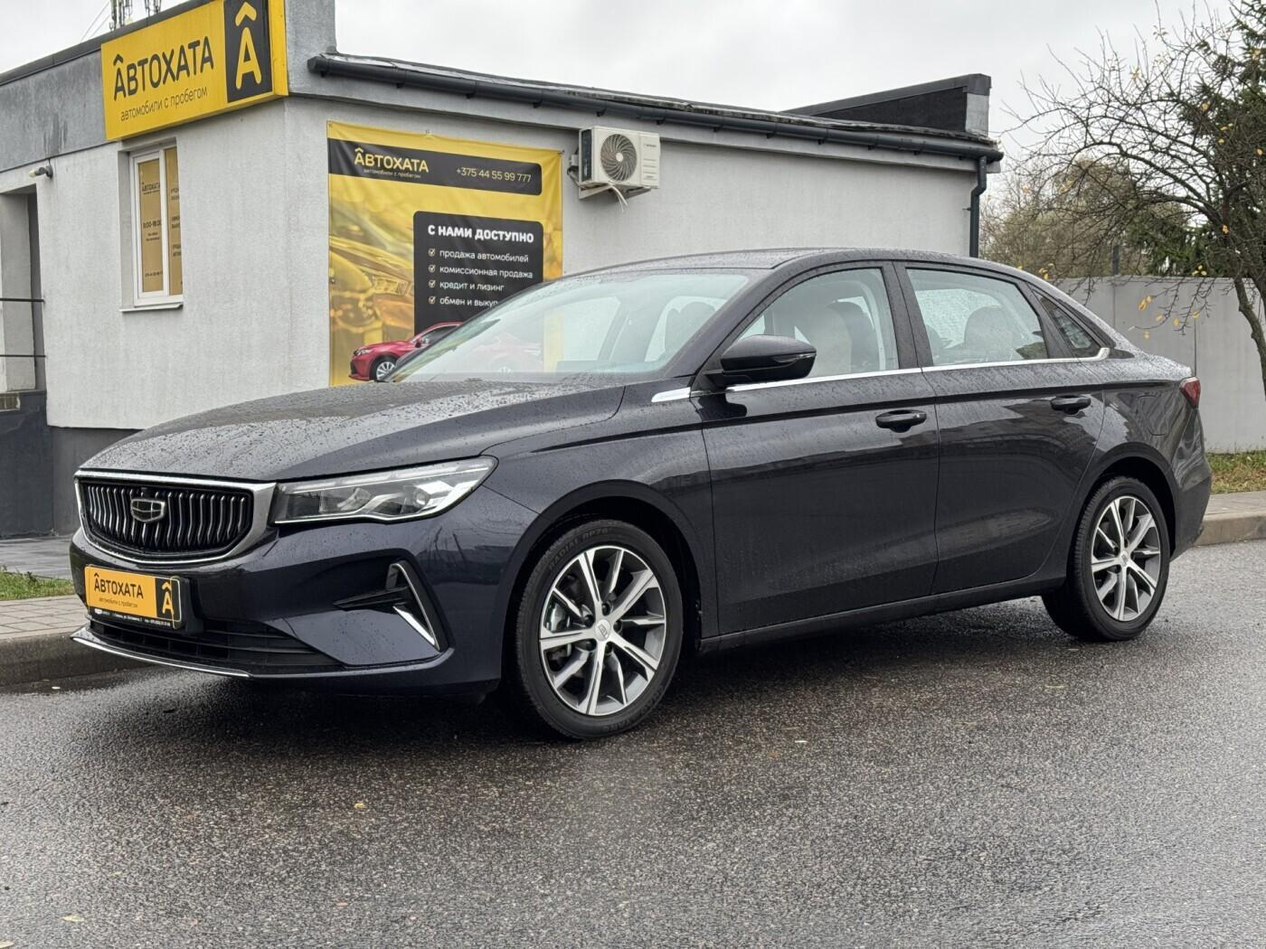Emgrand_2021: (57, 236, 1218, 739)
